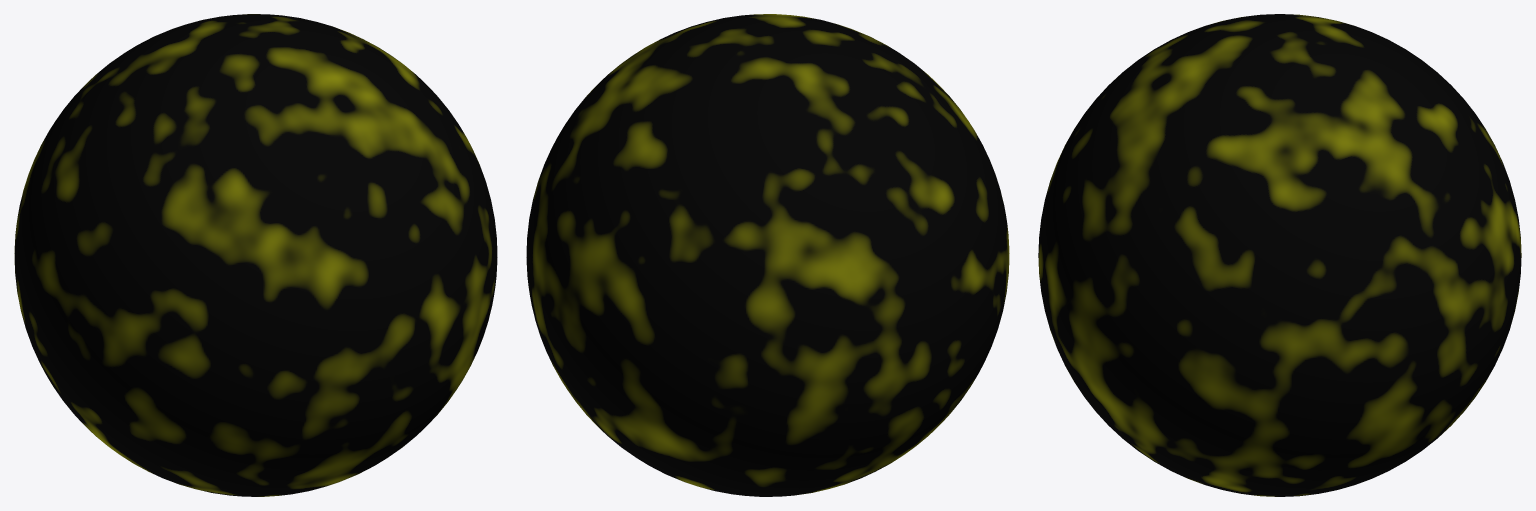
File: hoxxesIV.glb
3 views of the same model, side by side, from view 1: azimuth 30°, elevation 25°; view 2: azimuth 150°, elevation 25°; view 3: azimuth 270°, elevation 25° (orthographic).
Parts seen in each view (by area): view 1: Atmosphere; view 2: Atmosphere; view 3: Atmosphere.
Part boxes in pixels (x1=…): Atmosphere: x1=14, y1=14, x2=497, y2=496; Atmosphere: x1=526, y1=14, x2=1009, y2=496; Atmosphere: x1=1038, y1=14, x2=1521, y2=496.
Bounding box in the file's own units: 2.11 × 2.11 × 2.11.
Materials: 2 (2 with a texture image).
